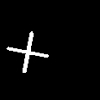single_crochet: (7, 32, 48, 72)
